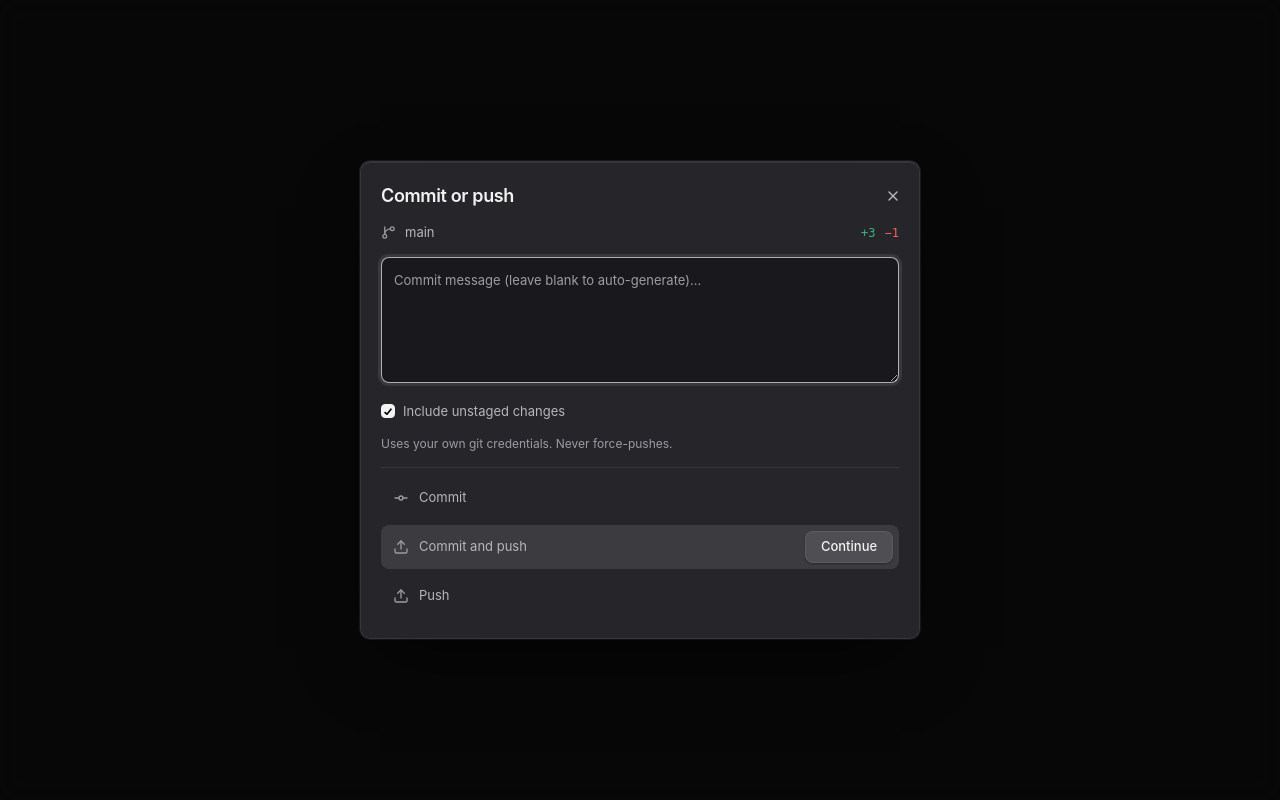
Test case: retries only Push after the commit succeeds and the remote fails
The image size is (1280, 800).
Later steps or results of the test are not shown.
Type "Ship once" into the text box labelled "Commit message". click: (640, 320)
box: [381,257,899,383]
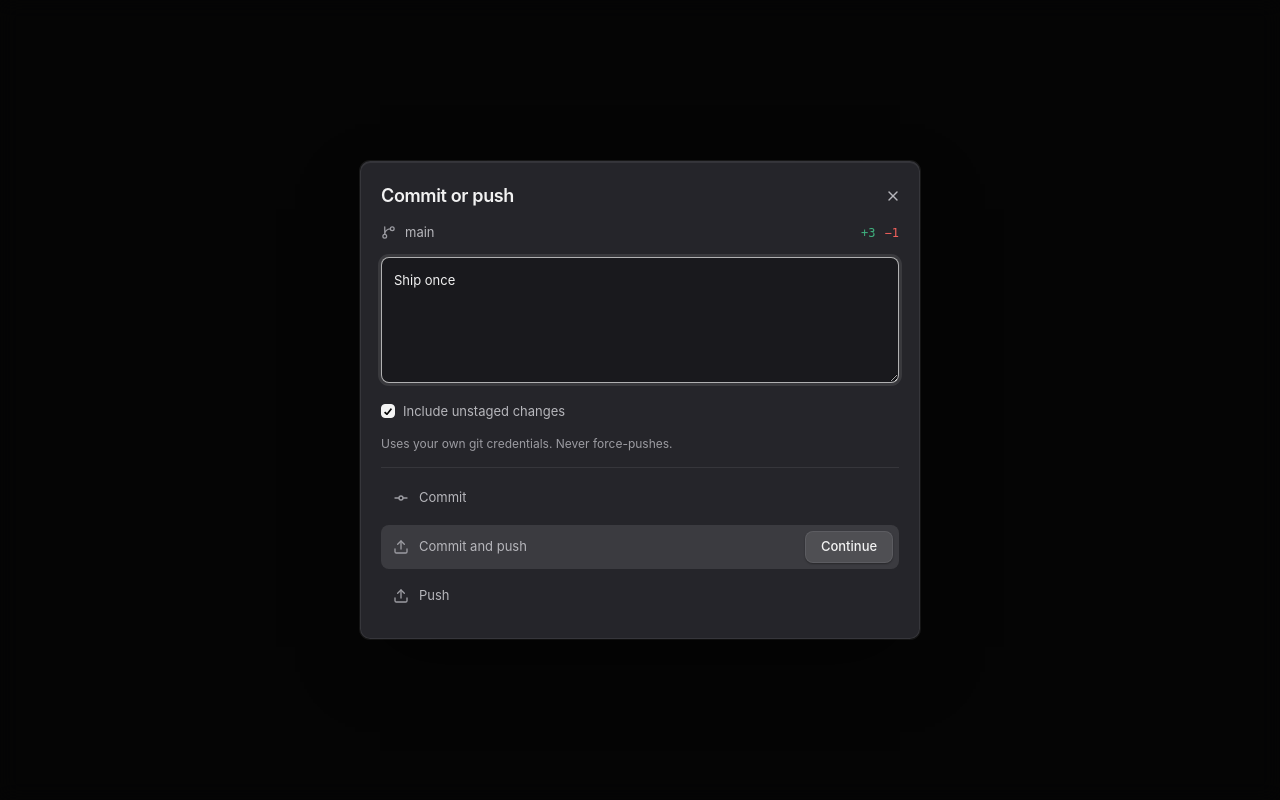
Click the button "Continue". click: (849, 547)
box: [805,531,893,563]
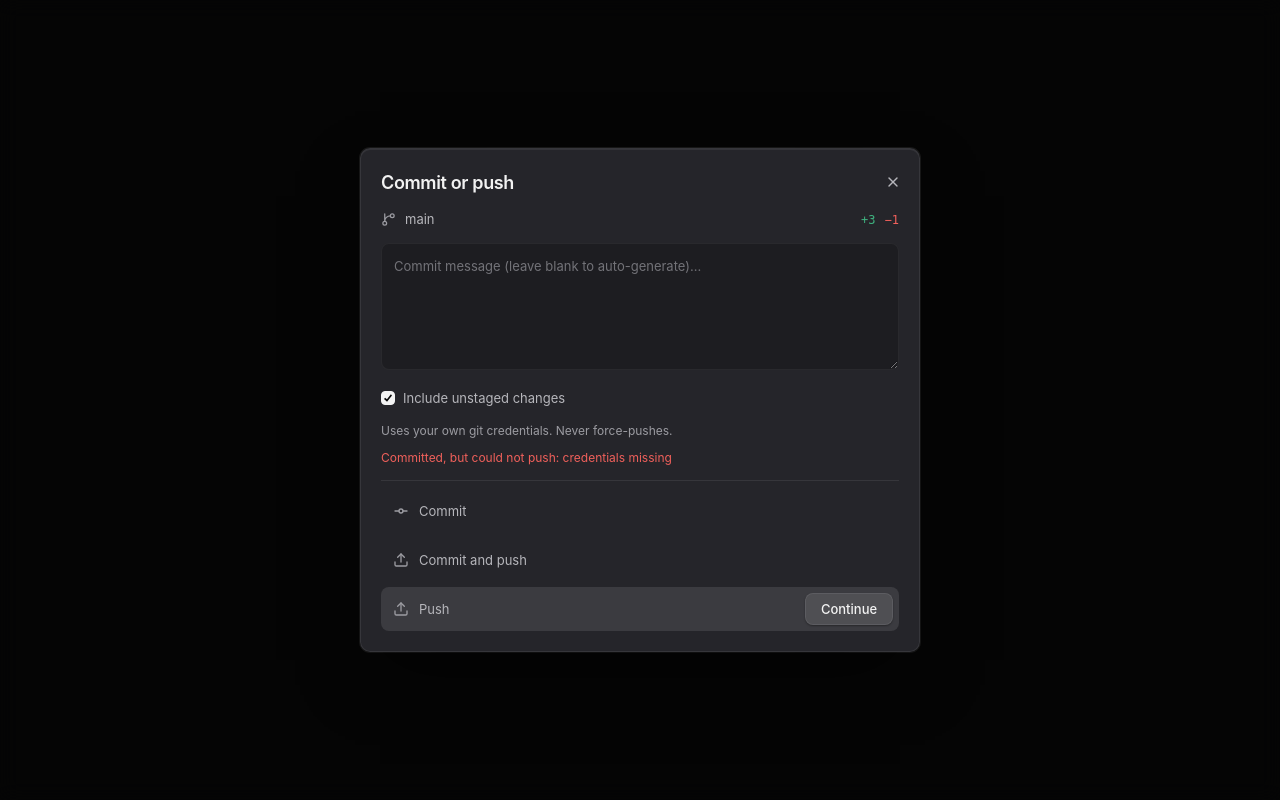
Check: the radio button labelled "Push" is shown, box [393,601,450,618]
Check: the message shows "Committed, but could not push", box [381,450,672,465]
